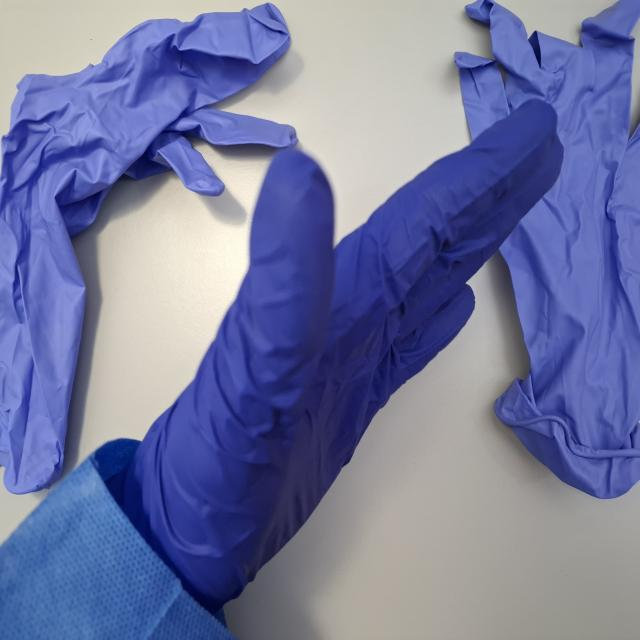glove_on: (105, 92, 568, 618)
